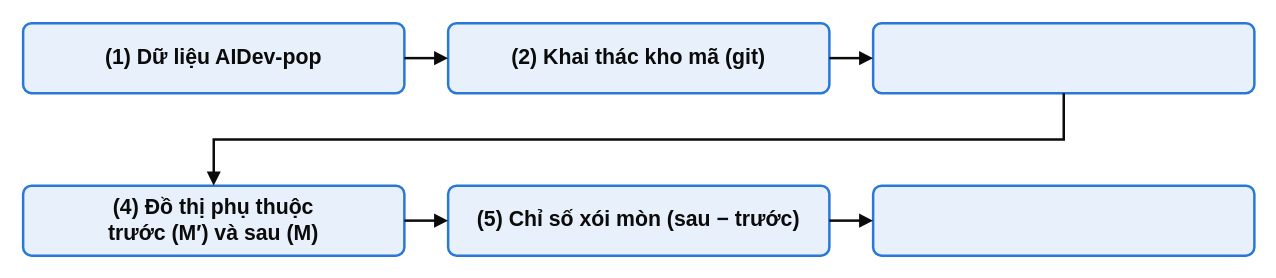
The diagram is 1276 pixels wide and 278 high, and some of its shapes have lost their labels. The shapes that lost their labels are listed below. From the top down, each one's centre as x and y in pixels, then its label:
At point (1063, 57): "(3) Hai nhóm PR".
At point (1063, 220): "(6) Phân tích thống kê".
